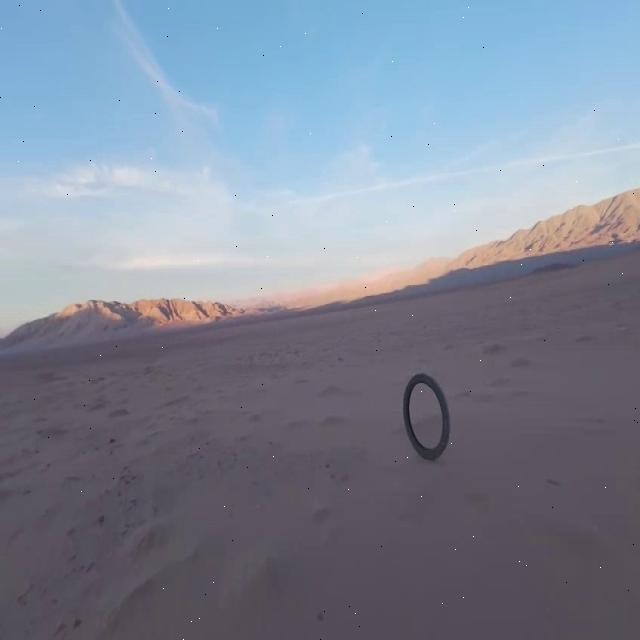Tire: (404, 374, 450, 459)
